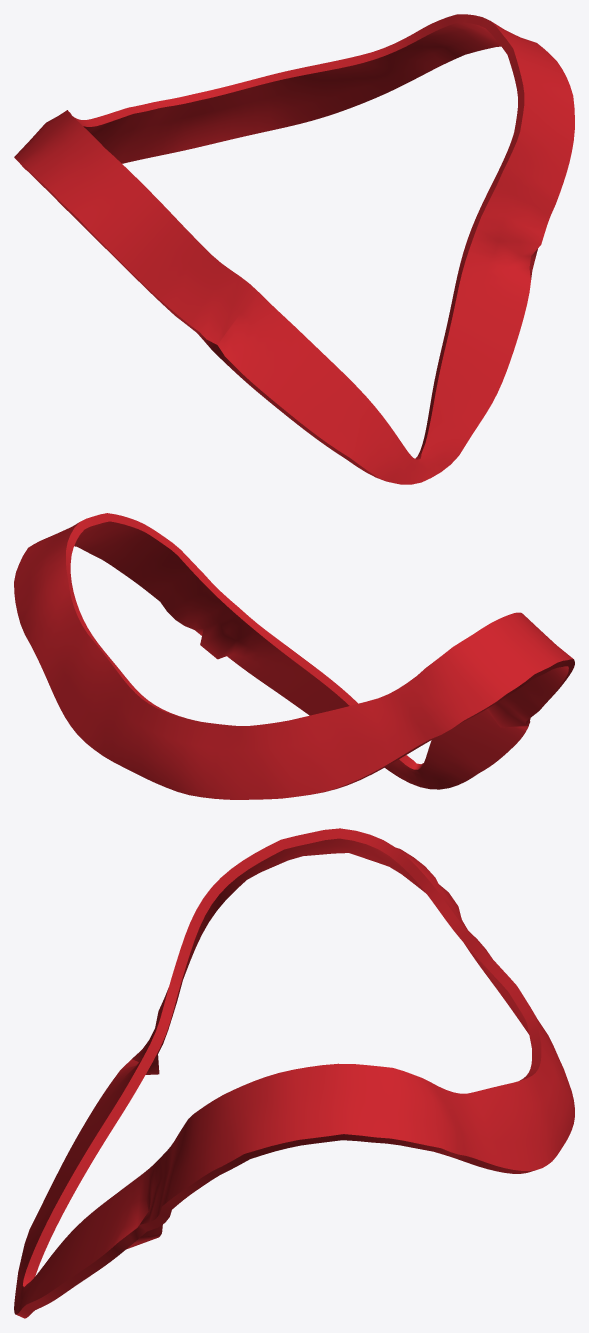
File: WornMedal_Ribbon_Fit.glb
3 views of the same model, one above another, from view 1: azimuth 30°, elevation 25°; view 2: azimuth 150°, elevation 25°; view 3: azimuth 270°, elevation 25° (orthographic). The views are drawn at different scales.
Parts seen in each view (by area): view 1: WornMedal_Ribbon_Fit; view 2: WornMedal_Ribbon_Fit; view 3: WornMedal_Ribbon_Fit.
Part boxes in pixels (x1=…): WornMedal_Ribbon_Fit: x1=14, y1=14, x2=574, y2=484; WornMedal_Ribbon_Fit: x1=14, y1=513, x2=574, y2=799; WornMedal_Ribbon_Fit: x1=14, y1=828, x2=574, y2=1318.
Bounding box in the file's own units: 1.64 × 0.9578 × 1.33.
